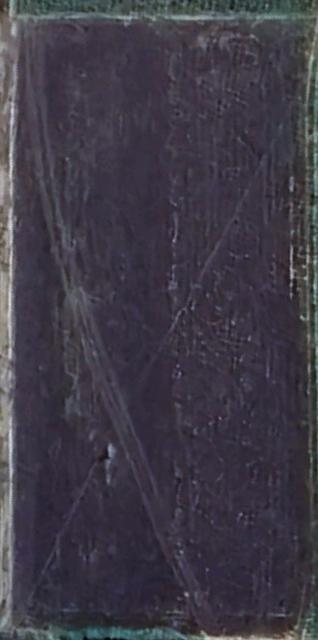Farms: (13, 13, 316, 639)
